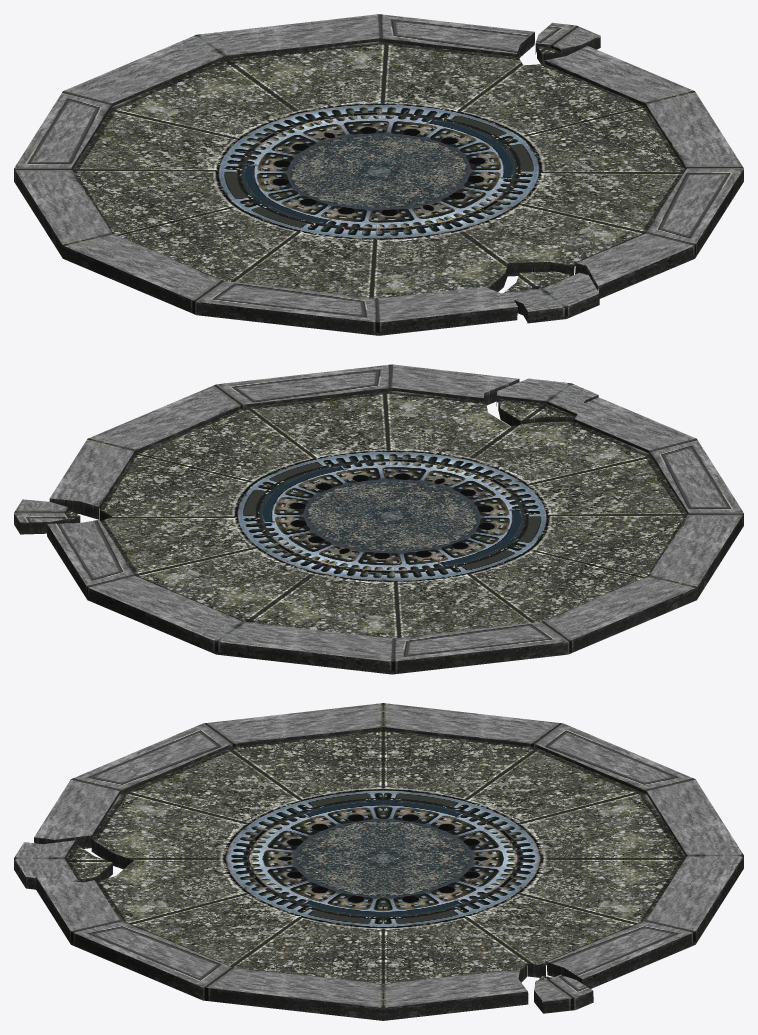
The model's file is stage_pan_A.FBX.
3 renders of one model, top to bottom at view 1: azimuth 30°, elevation 25°; view 2: azimuth 150°, elevation 25°; view 3: azimuth 270°, elevation 25°, orthographic. The views are drawn at different scales.
Parts seen in each view (by area): view 1: Object001; view 2: Object001; view 3: Object001.
Part boxes in pixels (x1,y1,x2,y2): Object001: (14, 14, 743, 335); Object001: (14, 364, 743, 674); Object001: (14, 703, 743, 1020).
Size of the model in its own units: 10 by 0.2572 by 10.12.
